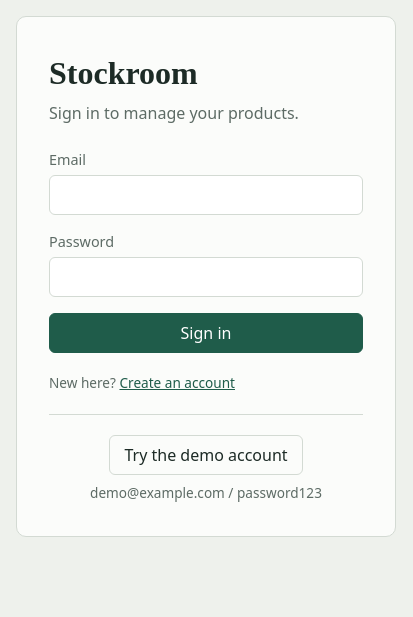
Test: sign in › shows the server's error message
Type "a@b.com" into the field labelled "Email" at (206, 195), box [49,175,363,215]
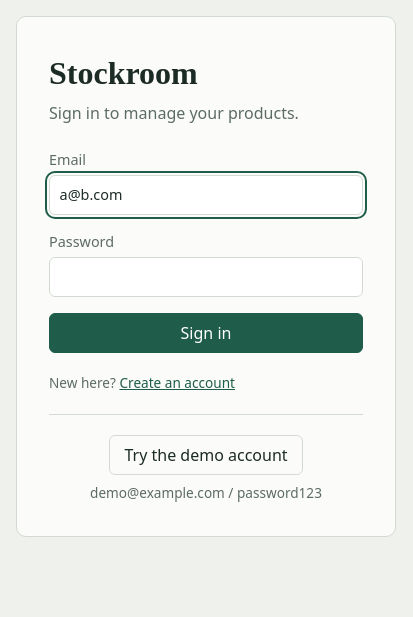
Type "secret12" into the password field labelled "Password" at (206, 277), box [49,257,363,297]
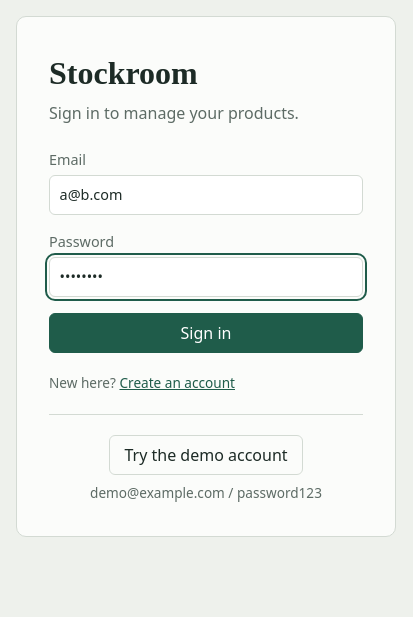
Click the button "Sign in" at (206, 333), box [49,313,363,353]
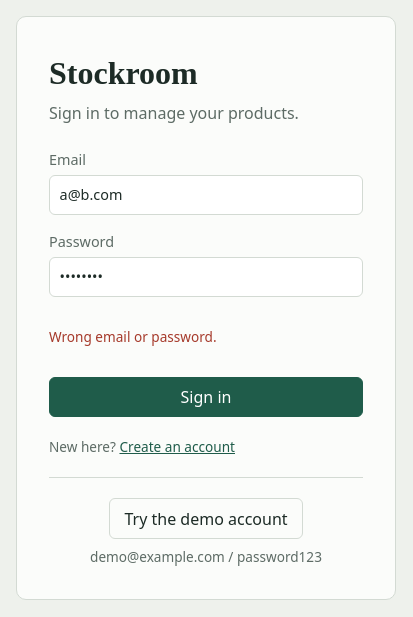
Check: the button "Sign in" is enabled, box [49,376,363,417]
Check: the message reads "Wrong email or password.", box [49,327,217,346]
